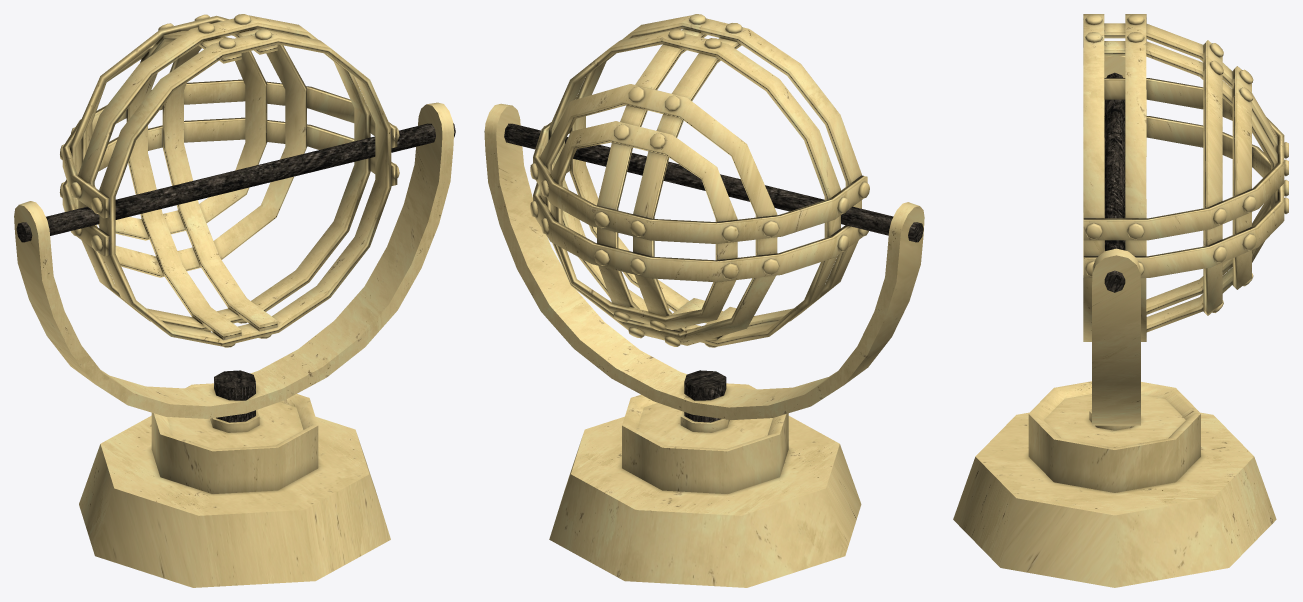
Rendered from LightGyro_02_v01.fbx.
3 renders of one model, left to right at view 1: azimuth 30°, elevation 25°; view 2: azimuth 150°, elevation 25°; view 3: azimuth 270°, elevation 25°, orthographic.
Parts seen in each view (by area): view 1: MechanismBasket, MechanismBase.001, MechanismFrame.001; view 2: MechanismBasket, MechanismBase.001, MechanismFrame.001; view 3: MechanismBase.001, MechanismBasket, MechanismFrame.001.
Part boxes in pixels (x1,y1,x2,y2): MechanismBasket: (16, 14, 455, 347); MechanismBase.001: (79, 383, 390, 587); MechanismFrame.001: (14, 102, 454, 422); MechanismBasket: (484, 14, 923, 347); MechanismBase.001: (549, 383, 861, 587); MechanismFrame.001: (484, 103, 924, 422); MechanismBase.001: (953, 381, 1276, 587); MechanismBasket: (1083, 14, 1288, 341); MechanismFrame.001: (1092, 56, 1140, 425).
Size of the model in its own units: 73.38 by 80.58 by 49.69.
